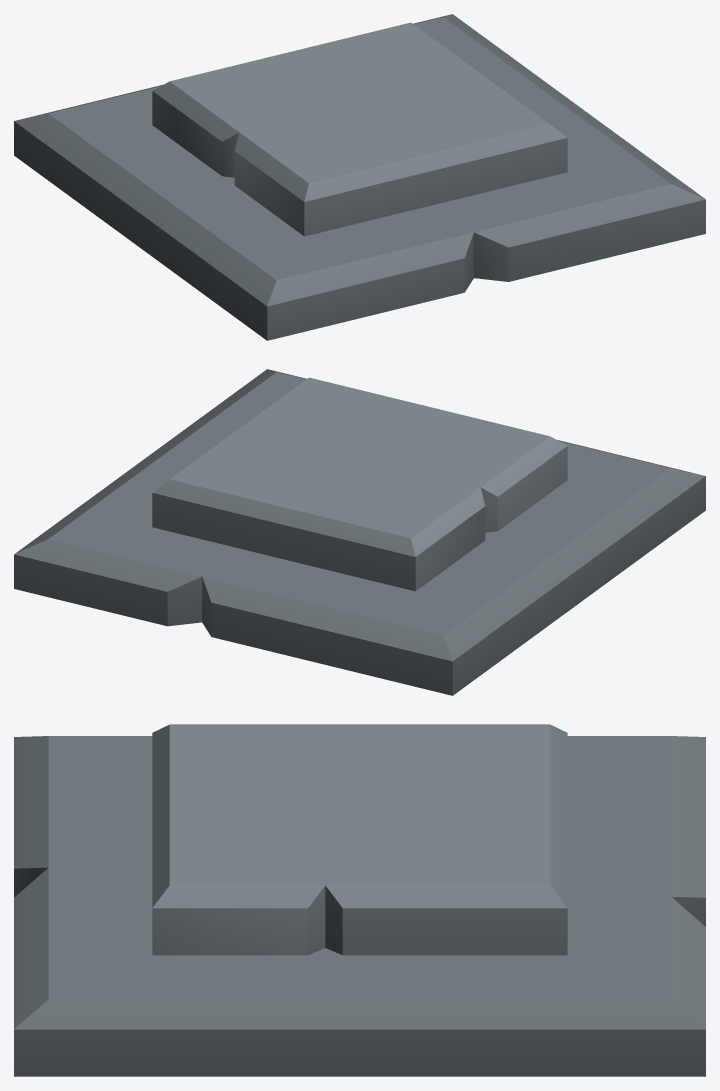
Rendered from plaque.obj.
3 views of the same model, one above another, from view 1: azimuth 30°, elevation 25°; view 2: azimuth 150°, elevation 25°; view 3: azimuth 270°, elevation 25° (orthographic). The views are drawn at different scales.
Parts seen in each view (by area): view 1: plaque_Cube.116; view 2: plaque_Cube.116; view 3: plaque_Cube.116.
Boxes of the visible parts, x1,y1,x2,y2 form: plaque_Cube.116: (14,14,705,340); plaque_Cube.116: (14,369,705,695); plaque_Cube.116: (14,724,705,1076).
Size of the model in its own units: 2 by 0.4 by 2.
1 material, 1 textured.
